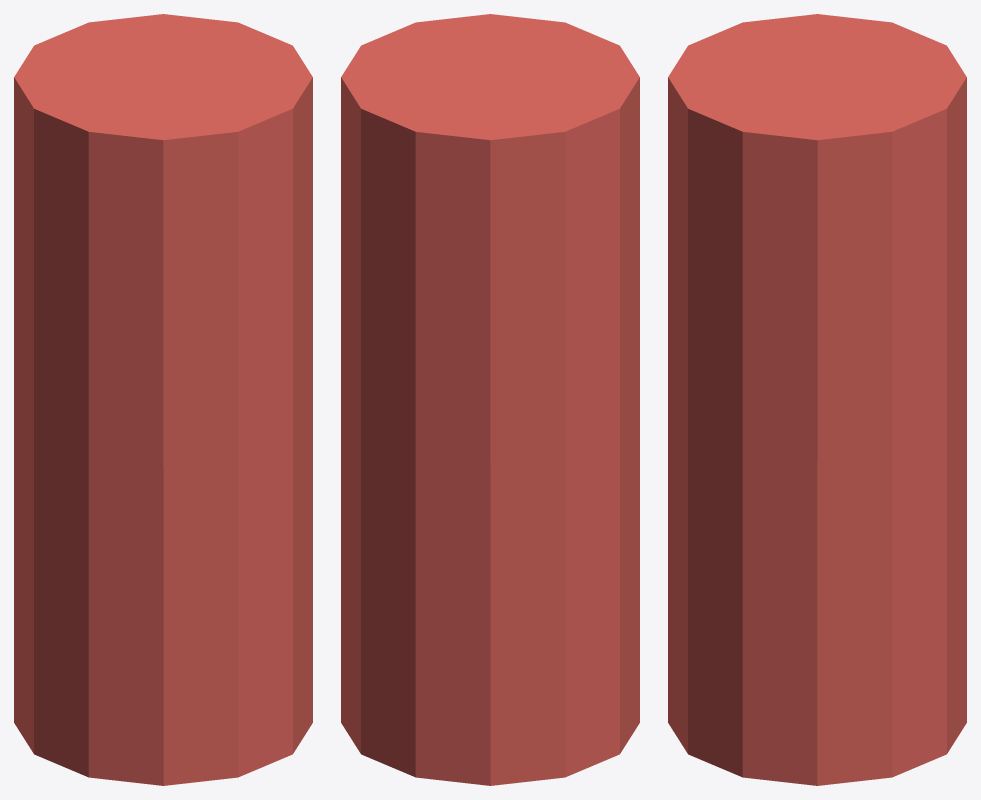
File: Botao.fbx
3 renders of one model, left to right at view 1: azimuth 30°, elevation 25°; view 2: azimuth 150°, elevation 25°; view 3: azimuth 270°, elevation 25°, orthographic.
Visible parts, largest first — view 1: Botao; view 2: Botao; view 3: Botao.
Boxes of the visible parts, <box> form: Botao: <box>14,14,312,785</box>; Botao: <box>341,14,639,785</box>; Botao: <box>668,14,966,785</box>.
Size of the model in its own units: 52 by 124 by 52.
